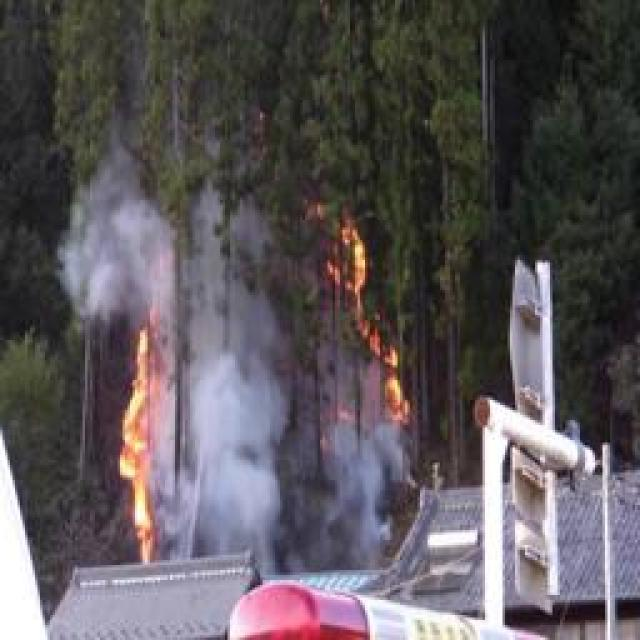Fire: (310, 205, 414, 451), (116, 306, 170, 566)
Smoke: (56, 136, 298, 578)
